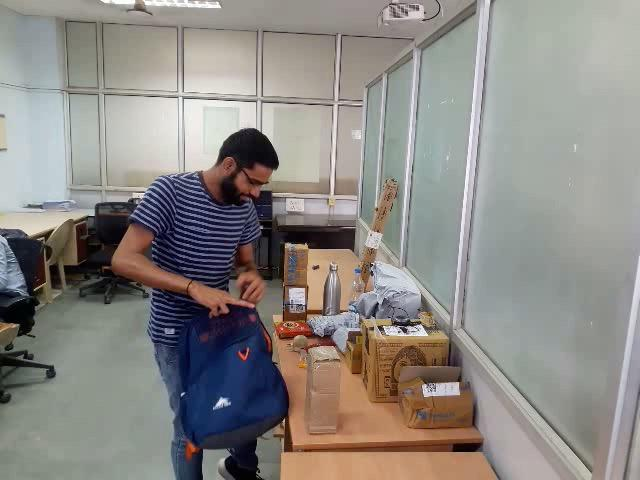shoplifting: (81, 257, 376, 449)
